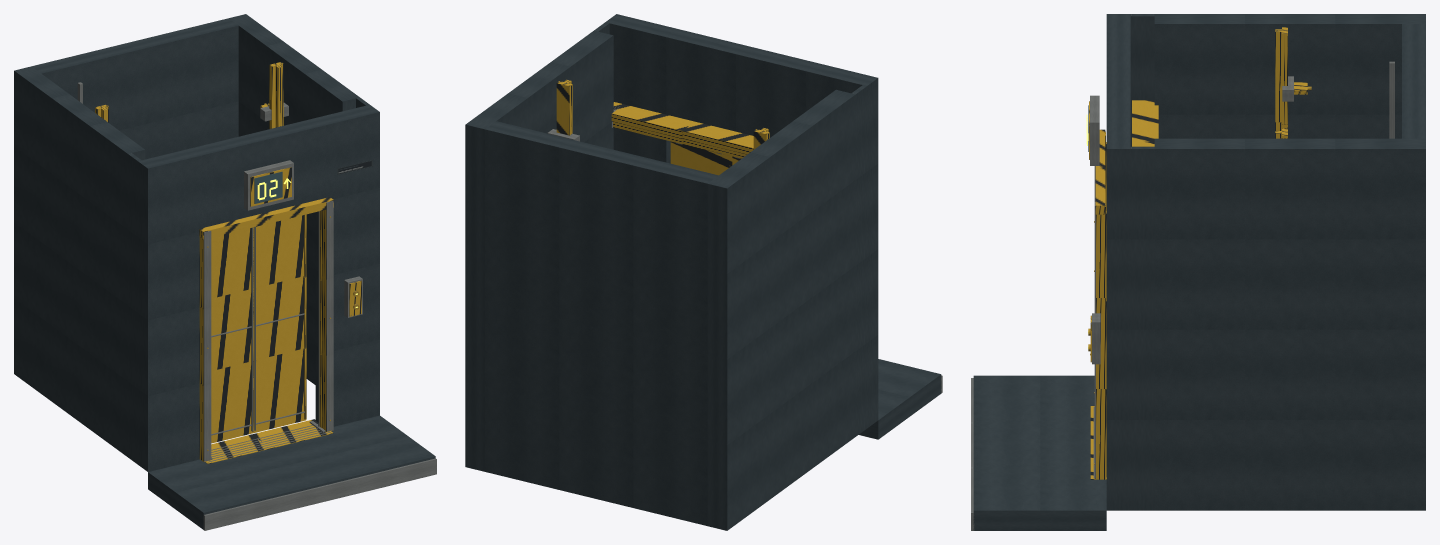
File: ProjectZ_Elevator_Door_Shaft_Kit.glb
3 renders of one model, left to right at view 1: azimuth 30°, elevation 25°; view 2: azimuth 150°, elevation 25°; view 3: azimuth 270°, elevation 25°, orthographic. The views are drawn at different scales.
Parts seen in each view (by area): view 1: Shaft_3M_LeftWall_Stackable, Shaft_3M_FrontLeftWallReturn_0p56m, Shaft_3M_BackWall_Stackable, Shaft_3M_FrontRightWallReturn_0p56m, Landing_Corridor_Slab_2p4x1m_0p17Thick, Door_Right_Sliding_MainLeaf_2p146M, Shaft_3M_RightWall_Stackable, Door_Left_Sliding_MainLeaf_2p146M, Shaft_3M_OverDoor_Lintel_1p28m, Landing_Outside_Edge_CastSteel_Trim, Shaft_3M_DoorPocket_ThinSideLiner_Left, Threshold_Stainless_1p3m_LowProfile_Sill (+12 smaller); view 2: Shaft_3M_BackWall_Stackable, Shaft_3M_LeftWall_Stackable, Shaft_3M_RightWall_Stackable, Shaft_3M_OverDoor_Lintel_1p28m, Shaft_3M_FrontRightWallReturn_0p56m, Shaft_3M_FrontLeftWallReturn_0p56m, Shaft_3M_DoorPocket_ThinSideLiner_Left, Landing_Corridor_Slab_2p4x1m_0p17Thick, DoorHeader_Removable_ServiceHood_2p22M, Door_Right_Sliding_MainLeaf_2p146M, ShaftGuideRail_Right_TSection_3m, DoorHeader_TrackCover_2p24M; view 3: Shaft_3M_RightWall_Stackable, Shaft_3M_LeftWall_Stackable, Landing_Corridor_Slab_2p4x1m_0p17Thick, Shaft_3M_FrontRightWallReturn_0p56m, Shaft_3M_DoorPocket_ThinSideLiner_Right, Shaft_3M_BackWall_Stackable, DoorLanding_Stainless_Jamb_R, Shaft_3M_DoorPocket_ThinSideLiner_Left, Shaft_3M_OverDoor_Lintel_1p28m, ShaftGuideRail_Left_TSection_3m, DoorHeader_Removable_ServiceHood_2p22M, Shaft_3M_FrontLeftWallReturn_0p56m (+2 smaller).
Part boxes in pixels (left/top/right/bottom): Shaft_3M_LeftWall_Stackable: left=14, top=66, right=145, bottom=456; Shaft_3M_FrontLeftWallReturn_0p56m: left=138, top=148, right=201, bottom=471; Shaft_3M_BackWall_Stackable: left=32, top=18, right=238, bottom=159; Shaft_3M_FrontRightWallReturn_0p56m: left=315, top=104, right=379, bottom=426; Landing_Corridor_Slab_2p4x1m_0p17Thick: left=148, top=415, right=435, bottom=529; Door_Right_Sliding_MainLeaf_2p146M: left=252, top=215, right=306, bottom=433; Shaft_3M_RightWall_Stackable: left=229, top=14, right=359, bottom=384; Door_Left_Sliding_MainLeaf_2p146M: left=211, top=228, right=251, bottom=443; Shaft_3M_OverDoor_Lintel_1p28m: left=192, top=118, right=325, bottom=227; Landing_Outside_Edge_CastSteel_Trim: left=203, top=458, right=436, bottom=530; Shaft_3M_DoorPocket_ThinSideLiner_Left: left=128, top=153, right=141, bottom=464; Threshold_Stainless_1p3m_LowProfile_Sill: left=205, top=419, right=333, bottom=463; Shaft_3M_BackWall_Stackable: left=485, top=121, right=718, bottom=525; Shaft_3M_LeftWall_Stackable: left=707, top=89, right=855, bottom=530; Shaft_3M_RightWall_Stackable: left=465, top=30, right=613, bottom=471; Shaft_3M_OverDoor_Lintel_1p28m: left=666, top=29, right=816, bottom=137; Shaft_3M_FrontRightWallReturn_0p56m: left=605, top=14, right=676, bottom=163; Shaft_3M_FrontLeftWallReturn_0p56m: left=806, top=63, right=878, bottom=428; Shaft_3M_DoorPocket_ThinSideLiner_Left: left=851, top=85, right=866, bottom=436; Landing_Corridor_Slab_2p4x1m_0p17Thick: left=859, top=359, right=941, bottom=439; DoorHeader_Removable_ServiceHood_2p22M: left=611, top=102, right=753, bottom=154; Door_Right_Sliding_MainLeaf_2p146M: left=670, top=141, right=732, bottom=175; ShaftGuideRail_Right_TSection_3m: left=556, top=79, right=572, bottom=135; DoorHeader_TrackCover_2p24M: left=613, top=121, right=746, bottom=158; Shaft_3M_RightWall_Stackable: left=1154, top=138, right=1425, bottom=510; Shaft_3M_LeftWall_Stackable: left=1154, top=14, right=1425, bottom=138; Landing_Corridor_Slab_2p4x1m_0p17Thick: left=973, top=375, right=1106, bottom=530; Shaft_3M_FrontRightWallReturn_0p56m: left=1106, top=117, right=1130, bottom=510; Shaft_3M_DoorPocket_ThinSideLiner_Right: left=1130, top=146, right=1154, bottom=510; Shaft_3M_BackWall_Stackable: left=1402, top=24, right=1425, bottom=138; DoorLanding_Stainless_Jamb_R: left=1096, top=203, right=1105, bottom=479; Shaft_3M_DoorPocket_ThinSideLiner_Left: left=1130, top=14, right=1154, bottom=146; Shaft_3M_OverDoor_Lintel_1p28m: left=1106, top=45, right=1130, bottom=117; ShaftGuideRail_Left_TSection_3m: left=1275, top=27, right=1287, bottom=130; DoorHeader_Removable_ServiceHood_2p22M: left=1132, top=100, right=1158, bottom=146; Shaft_3M_FrontLeftWallReturn_0p56m: left=1106, top=14, right=1130, bottom=45.
Bounding box in the file's own units: 2.4 × 3.17 × 3.42.
Materials: 5 (2 with a texture image).
